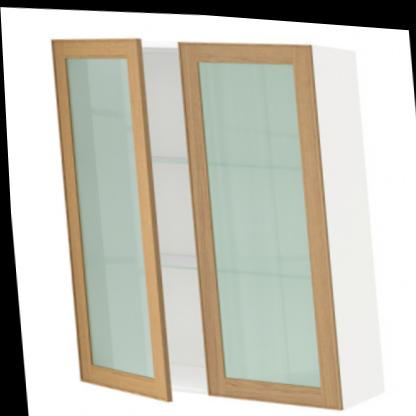Cabinet: (45, 18, 389, 416)
